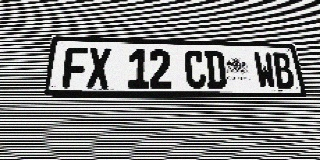1: (128, 49, 149, 88)
2: (149, 49, 171, 88)
B: (271, 52, 296, 89)
C: (184, 50, 207, 88)
D: (204, 51, 227, 88)
F: (62, 47, 88, 88)
W: (253, 52, 277, 89)
X: (87, 48, 111, 88)
